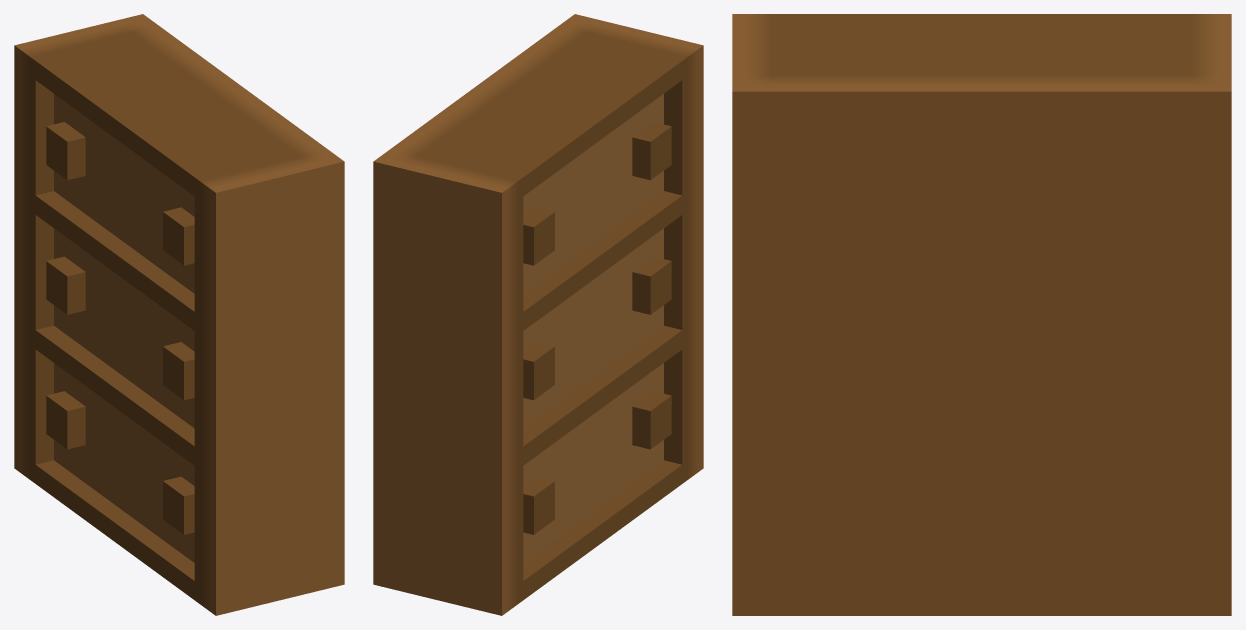
Rendered from drawer.fbx.
3 renders of one model, left to right at view 1: azimuth 30°, elevation 25°; view 2: azimuth 150°, elevation 25°; view 3: azimuth 270°, elevation 25°, orthographic. The views are drawn at different scales.
Parts seen in each view (by area): view 1: drawer; view 2: drawer; view 3: drawer.
Boxes of the visible parts, <box> form: drawer: <box>14,14,344,615</box>; drawer: <box>373,14,703,615</box>; drawer: <box>732,14,1231,615</box>.
Bounding box in the file's own units: 7 × 22 × 19.
